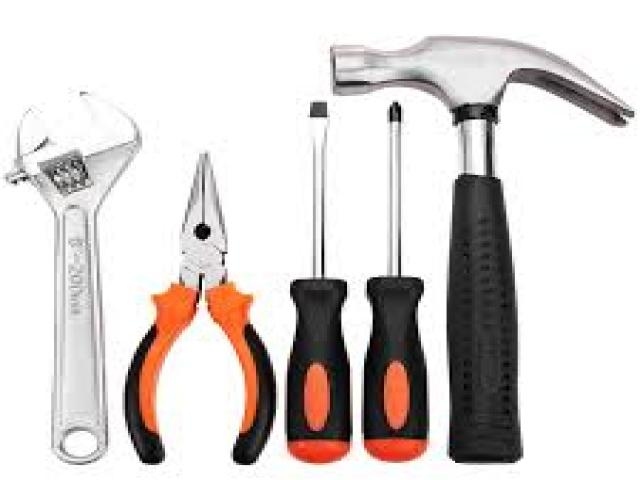Adjustable spanner: (7, 92, 147, 465)
Hammer: (336, 37, 634, 462)
Needle-nose pliers: (126, 153, 275, 464)
Screwdriver: (286, 101, 350, 463), (364, 276, 428, 461), (388, 102, 401, 275)
